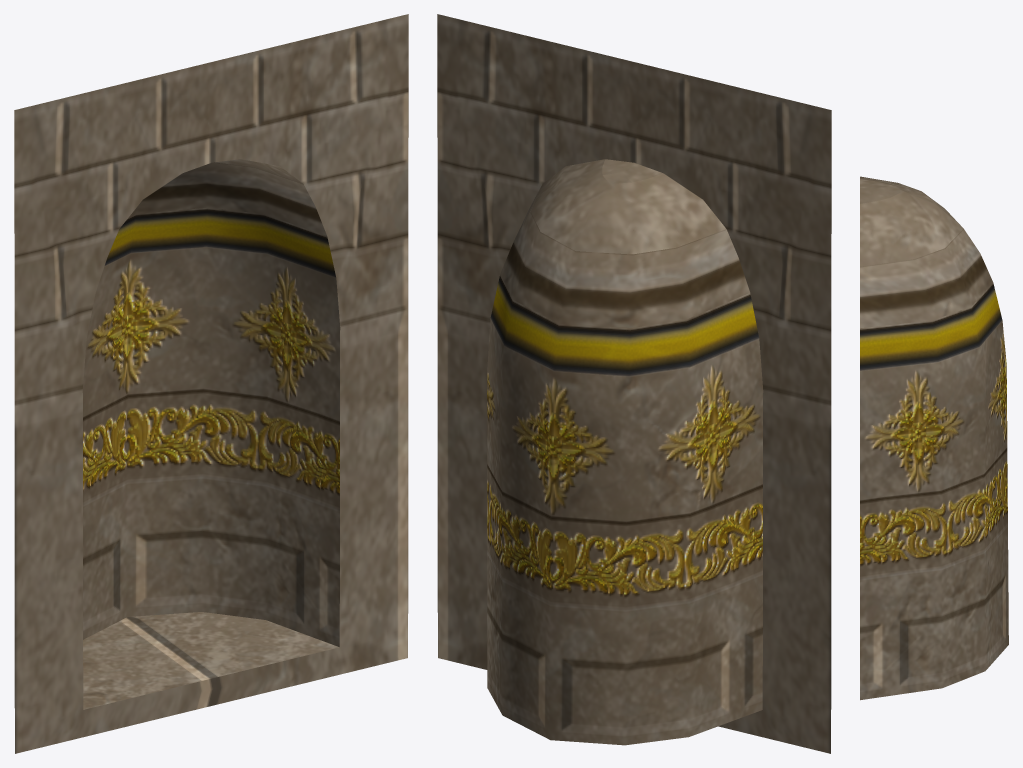
Rendered from sphereWall.fbx.
The picture shows the model from 3 angles, left to right: view 1: azimuth 30°, elevation 25°; view 2: azimuth 150°, elevation 25°; view 3: azimuth 270°, elevation 25°; orthographic projection. The views are drawn at different scales.
Visible parts, largest first — view 1: sphereWall; view 2: sphereWall; view 3: sphereWall.
Boxes of the visible parts, bbox=[...] form: sphereWall: bbox=[14, 14, 408, 753]; sphereWall: bbox=[437, 14, 831, 753]; sphereWall: bbox=[860, 176, 1008, 700].
Bounding box in the file's own units: 461 × 719 × 170.
Materials: 1 (1 with a texture image).
